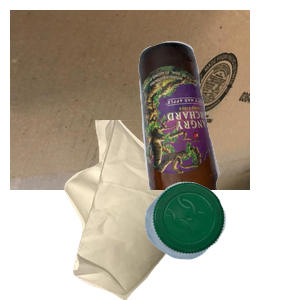cardboard: (10, 10, 250, 190)
glass: (136, 39, 300, 219)
plastic: (142, 179, 300, 300)
trash: (62, 120, 251, 300)
